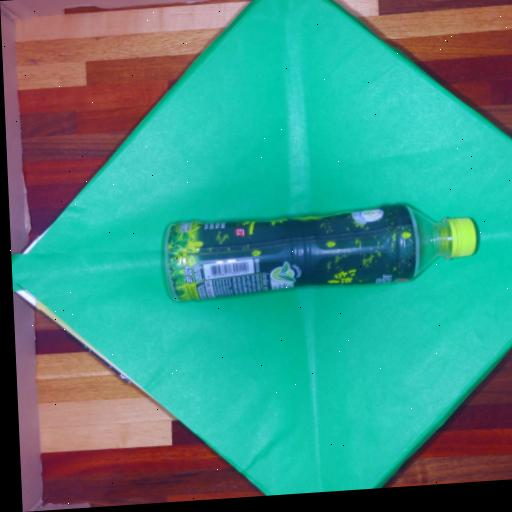bottle: (142, 187, 493, 314)
